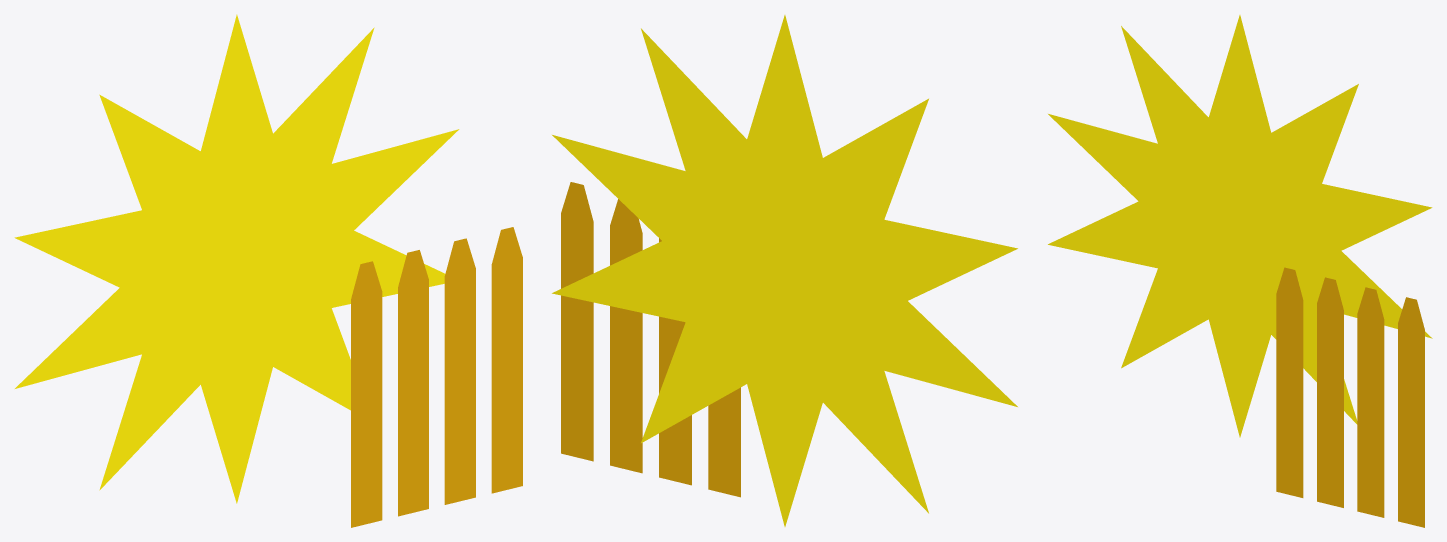
3 renders of one model, left to right at view 1: azimuth 30°, elevation 25°; view 2: azimuth 150°, elevation 25°; view 3: azimuth 330°, elevation 25°, orthographic. The views are drawn at different scales.
Visible parts, largest first — view 1: burst, bullets; view 2: burst, bullets; view 3: burst, bullets.
Boxes of the visible parts, x1,y1,x2,y2 form: burst: (14, 14, 459, 503); bullets: (351, 227, 522, 527); burst: (552, 15, 1017, 526); bullets: (561, 182, 740, 497); burst: (1048, 15, 1432, 437); bullets: (1276, 267, 1424, 527).
Bounding box in the file's own units: 0.7566 × 0.775 × 0.1.
